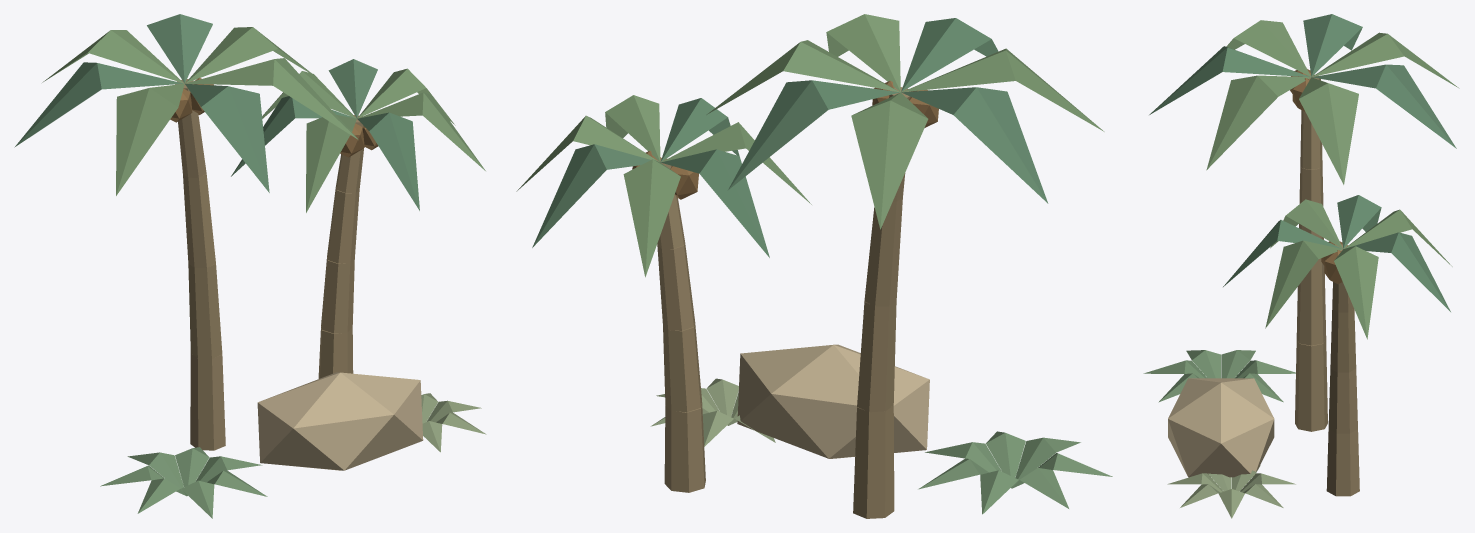
Rendered from xingyin-environment-v2__shore_palm_island.glb.
3 renders of one model, left to right at view 1: azimuth 30°, elevation 25°; view 2: azimuth 150°, elevation 25°; view 3: azimuth 270°, elevation 25°, orthographic. The views are drawn at different scales.
Parts seen in each view (by area): view 1: shore_palm_island; view 2: shore_palm_island; view 3: shore_palm_island.
Part boxes in pixels (bbox=[...]): shore_palm_island: bbox=[14, 14, 486, 518]; shore_palm_island: bbox=[516, 14, 1112, 518]; shore_palm_island: bbox=[1143, 14, 1459, 518].
Size of the model in its own units: 4.51 by 3.91 by 2.99.
